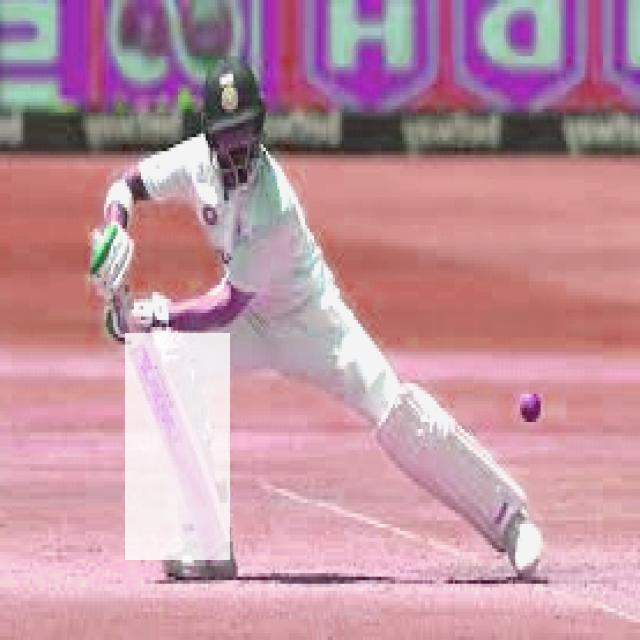bat: (124, 330, 233, 562)
toe: (202, 540, 244, 561)
